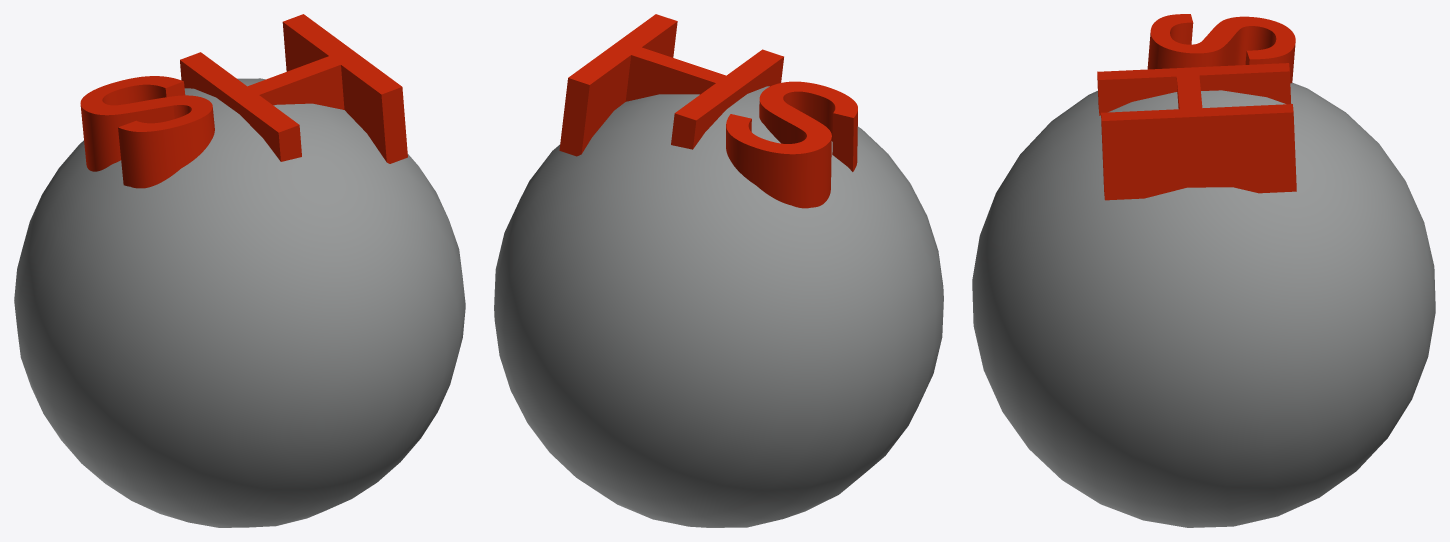
The picture shows the model from 3 angles, left to right: view 1: azimuth 30°, elevation 25°; view 2: azimuth 150°, elevation 25°; view 3: azimuth 270°, elevation 25°; orthographic projection. The views are drawn at different scales.
Parts seen in each view (by area): view 1: Hg001, Object007; view 2: Hg001, Object007; view 3: Hg001, Object007.
Boxes of the visible parts, x1,y1,x2,y2 form: Hg001: (14, 14, 465, 527); Object007: (80, 76, 214, 188); Hg001: (494, 14, 943, 527); Object007: (726, 81, 857, 208); Hg001: (972, 63, 1435, 527); Object007: (1147, 14, 1295, 83).
Bounding box in the file's own units: 38.61 × 41.13 × 38.66.
